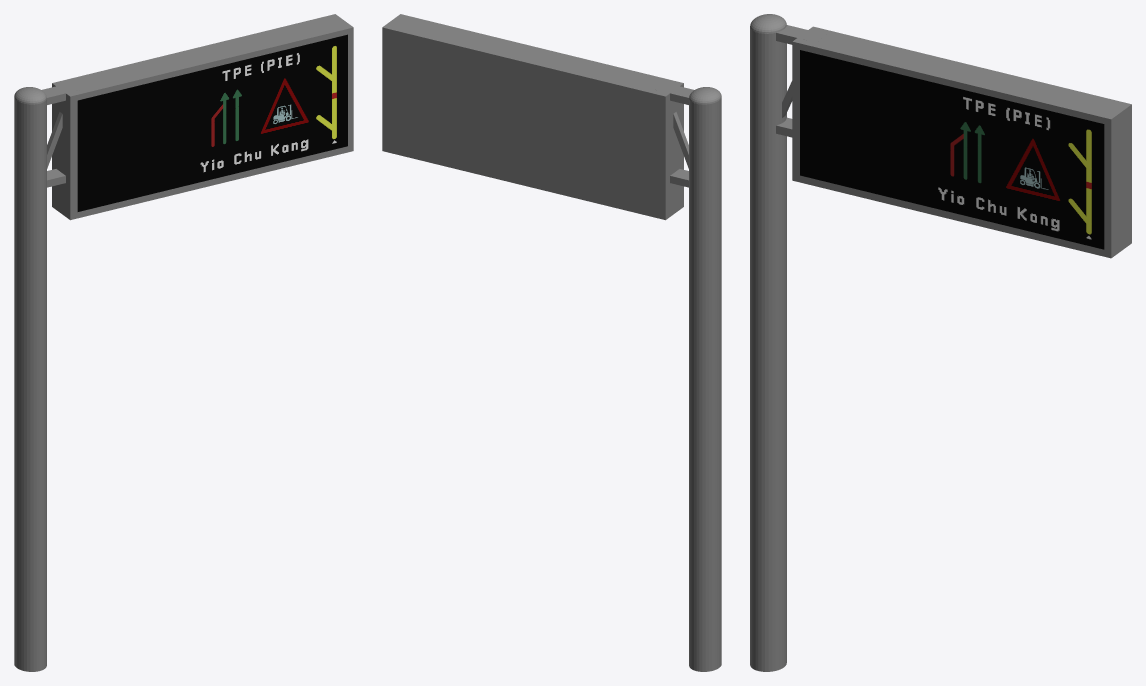
File: sideSignboard.fbx
3 views of the same model, side by side, from view 1: azimuth 30°, elevation 25°; view 2: azimuth 150°, elevation 25°; view 3: azimuth 330°, elevation 25° (orthographic). The views are drawn at different scales.
Visible parts, largest first — view 1: TPE (PIE); view 2: TPE (PIE); view 3: TPE (PIE).
Part boxes in pixels (x1,y1,x2,y2): TPE (PIE): (14, 14, 353, 671); TPE (PIE): (382, 14, 721, 671); TPE (PIE): (750, 14, 1131, 671).
Bounding box in the file's own units: 851 × 1426 × 83.75.
Materials: 2 (1 with a texture image).
